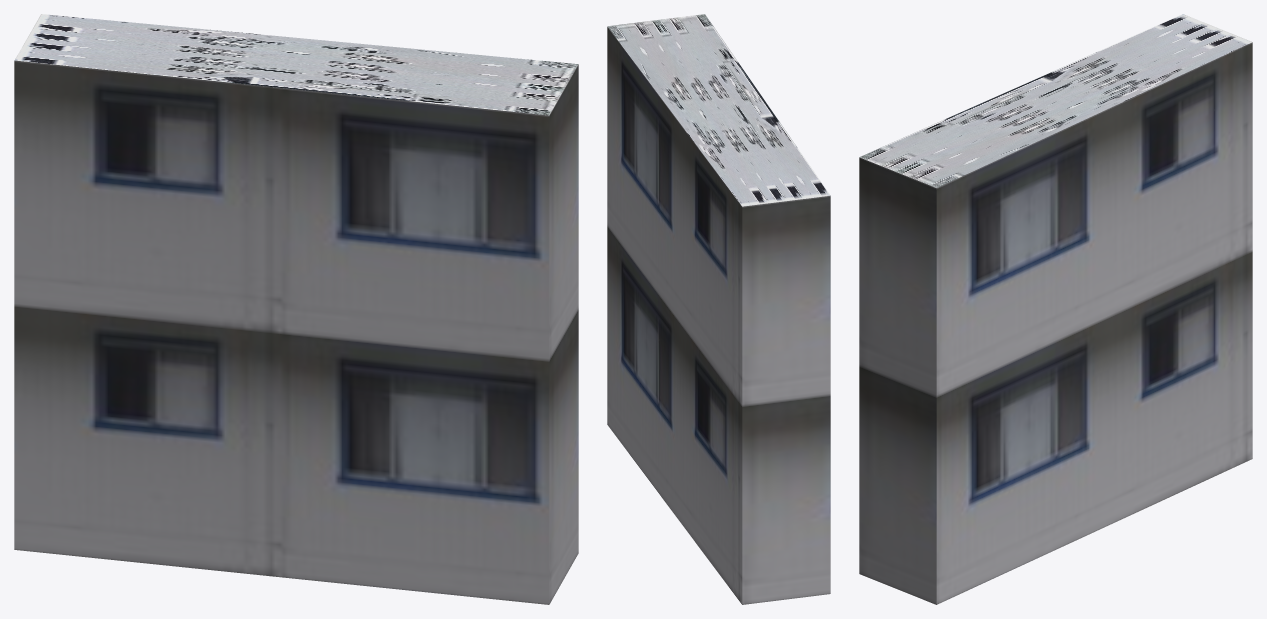
The model's file is ResTex__2521.fbx.
3 renders of one model, left to right at view 1: azimuth 30°, elevation 25°; view 2: azimuth 150°, elevation 25°; view 3: azimuth 270°, elevation 25°, orthographic. The views are drawn at different scales.
Parts seen in each view (by area): view 1: CityEngineMaterial_9_m, CityEngineMaterial_m; view 2: CityEngineMaterial_9_m, CityEngineMaterial_m; view 3: CityEngineMaterial_9_m, CityEngineMaterial_m.
Part boxes in pixels (x1,y1,x2,y2): CityEngineMaterial_9_m: (14,60,578,604); CityEngineMaterial_m: (14,14,578,115); CityEngineMaterial_9_m: (607,27,830,604); CityEngineMaterial_m: (607,14,830,206); CityEngineMaterial_9_m: (859,42,1252,604); CityEngineMaterial_m: (859,14,1252,187).
Bounding box in the file's own units: 5.38 × 6 × 5.14.
2 materials, 2 textured.
